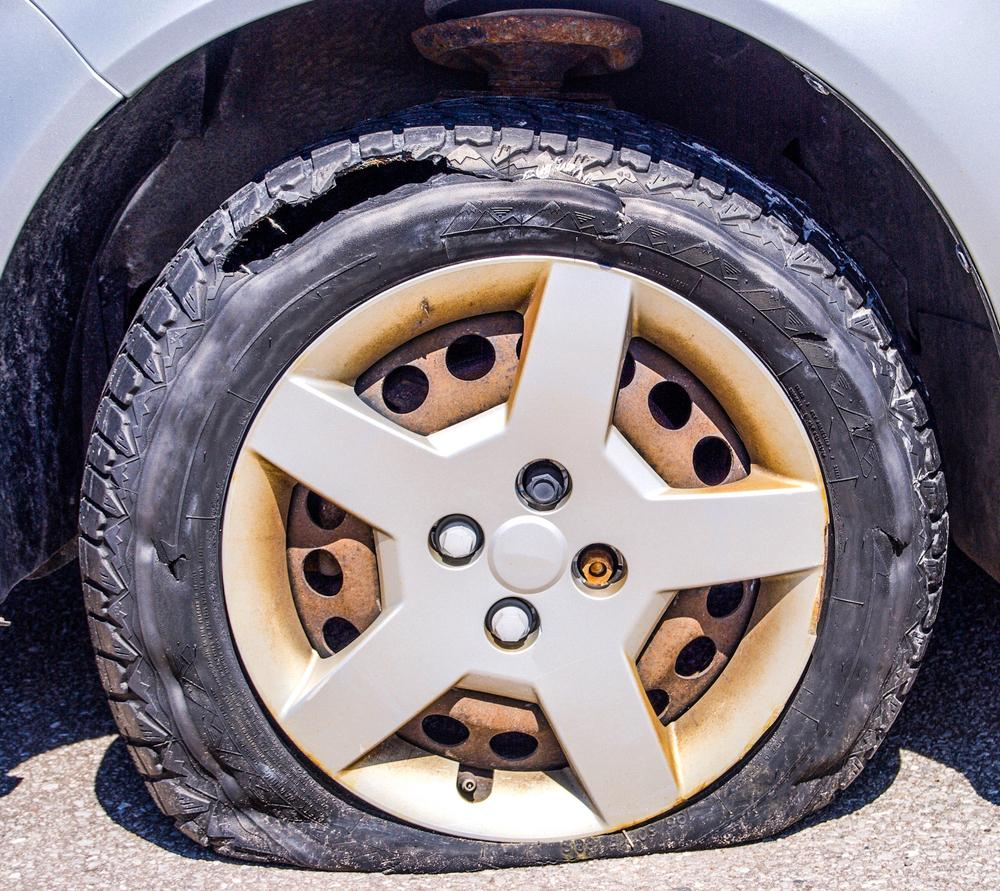tire flat: (78, 93, 950, 876)
